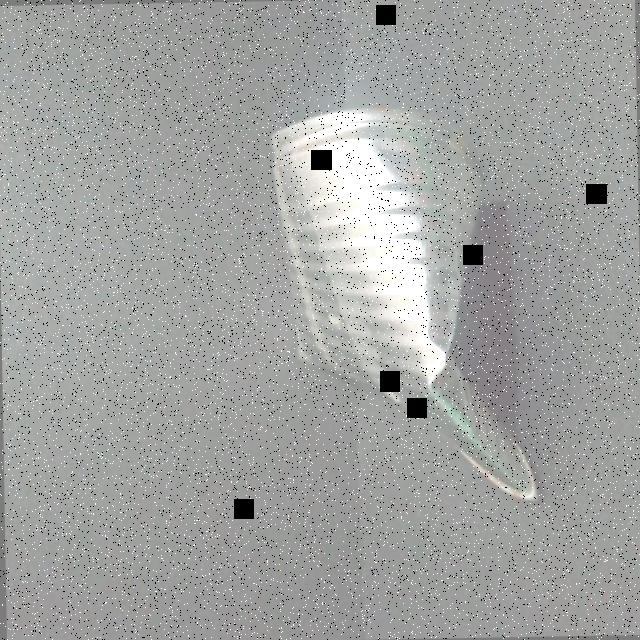can: (265, 100, 542, 509)
